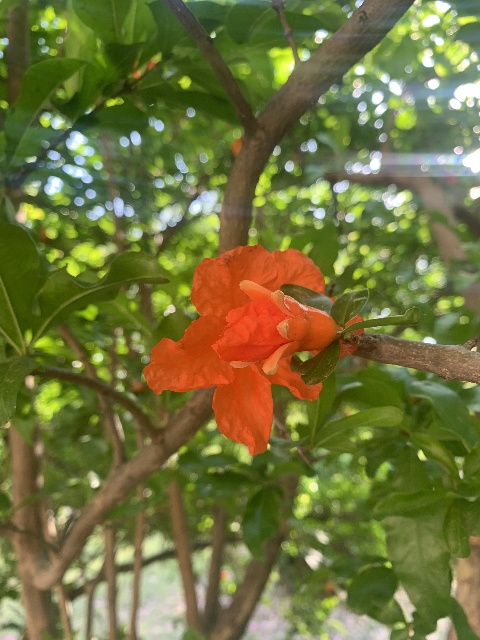flower: (144, 241, 364, 453), (210, 279, 341, 375)
